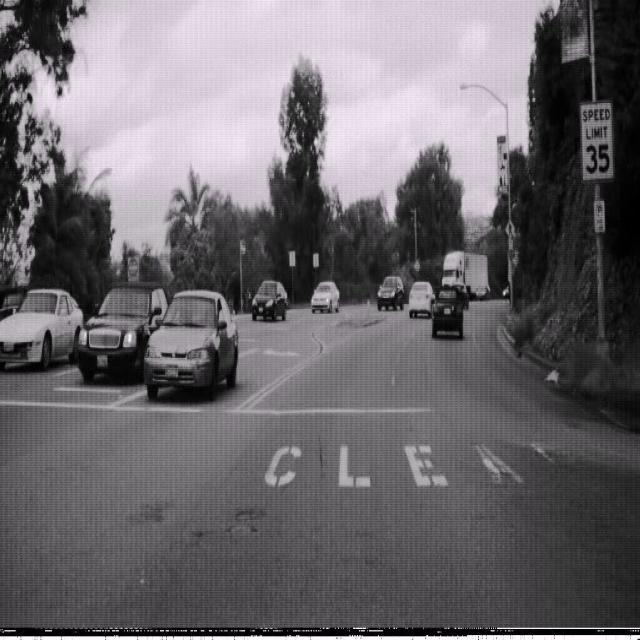speedLimit35: (580, 100, 614, 180)
